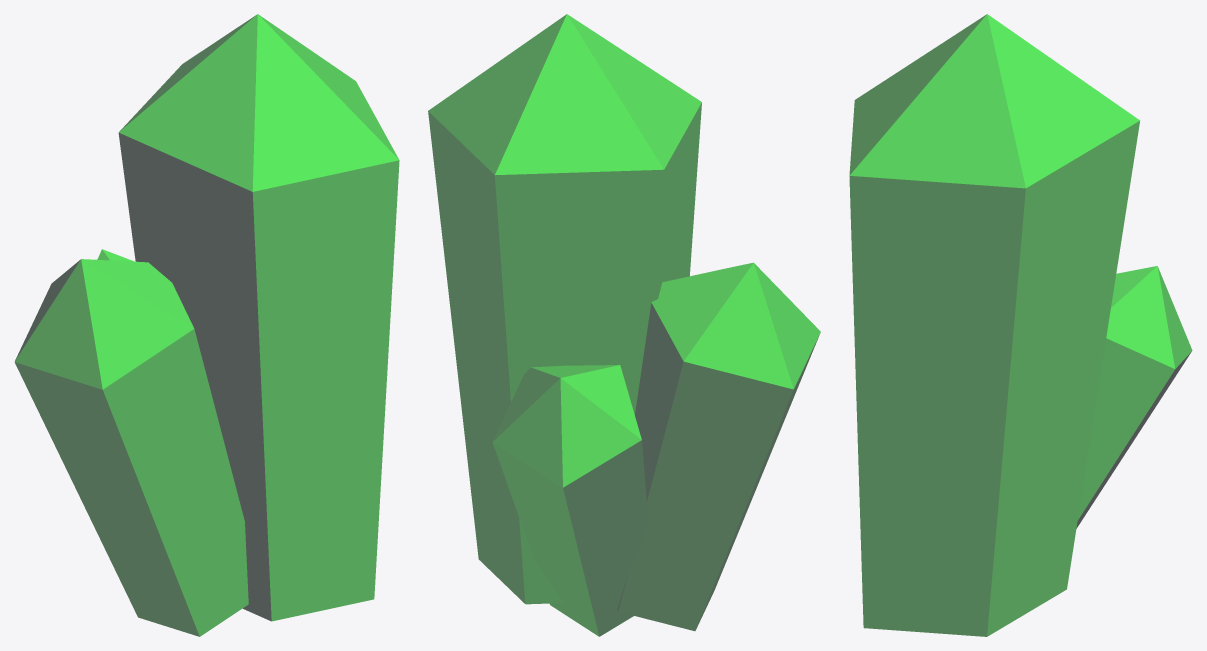
Rendered from green crystal.gltf.
3 views of the same model, side by side, from view 1: azimuth 30°, elevation 25°; view 2: azimuth 150°, elevation 25°; view 3: azimuth 270°, elevation 25° (orthographic). The views are drawn at different scales.
Visible parts, largest first — view 1: Circle.002; view 2: Circle.002; view 3: Circle.002.
Boxes of the visible parts, x1,y1,x2,y2 form: Circle.002: (14,14,399,636); Circle.002: (428,14,820,636); Circle.002: (849,14,1192,636).
Bounding box in the file's own units: 3.22 × 5.07 × 2.61.
